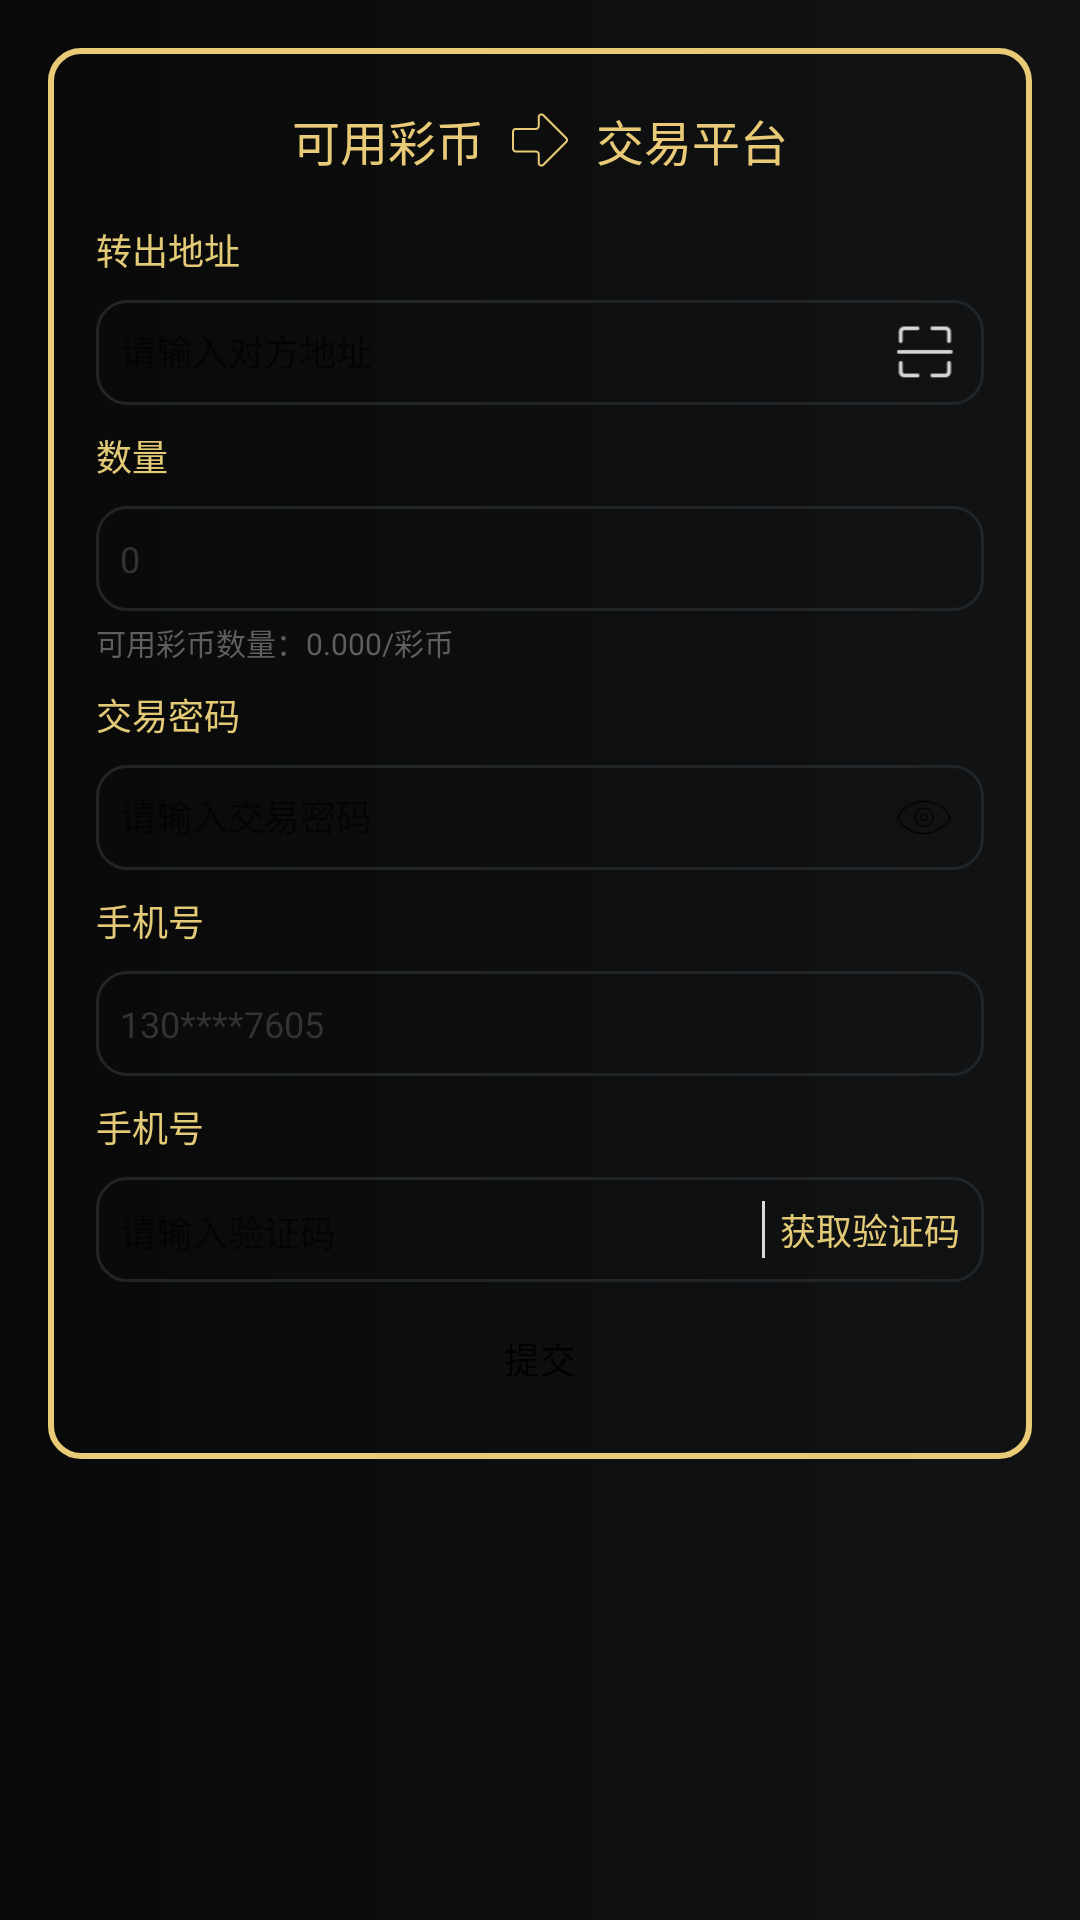

Locate icon controls on the screen. Image size 1080w x 1920h, boxes as (x1, y1, x2, y2).
scan: (897, 326, 953, 378)
to arrow: (512, 113, 568, 167)
